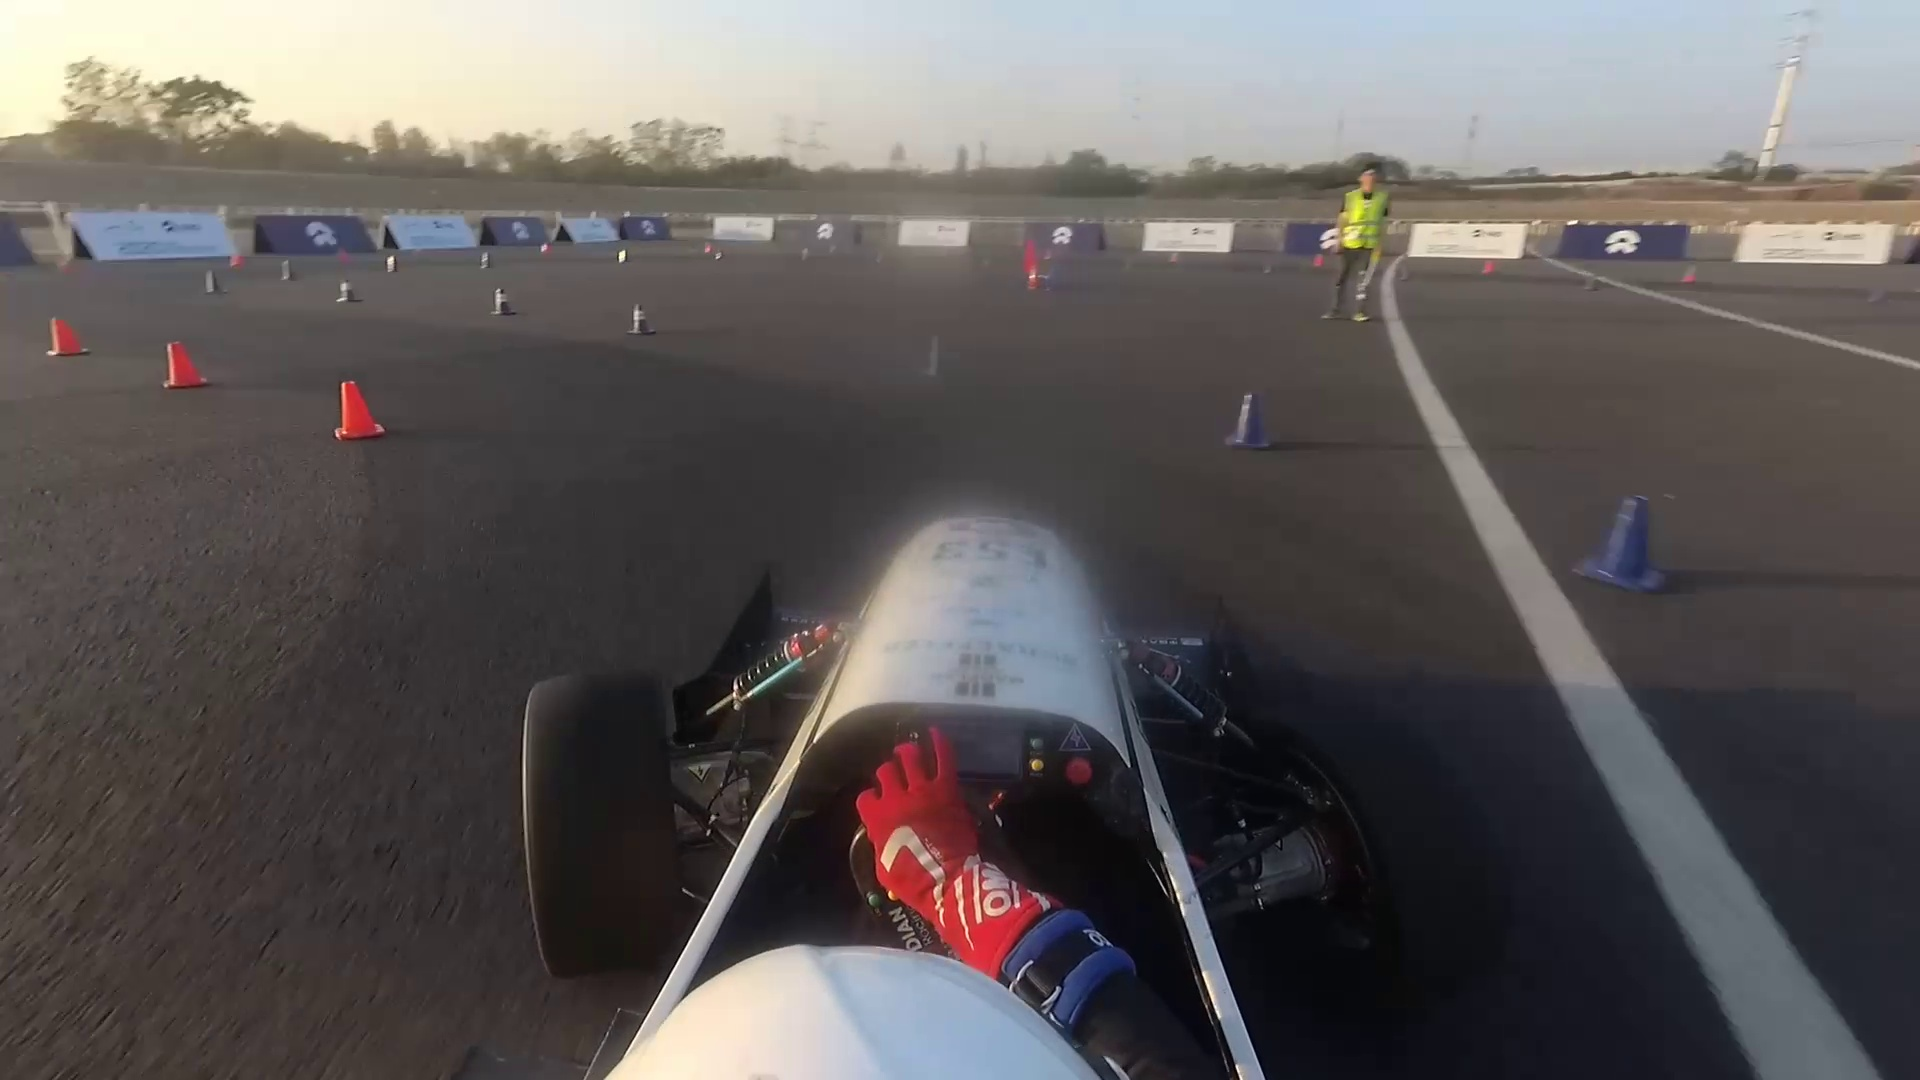blue_cone: (1557, 468, 1700, 618), (1230, 386, 1279, 463), (909, 330, 953, 389), (626, 302, 666, 340), (330, 270, 364, 313), (200, 261, 225, 306), (487, 285, 517, 314), (277, 260, 293, 282), (477, 252, 492, 272), (384, 256, 400, 272), (616, 248, 630, 262)
red_cone: (316, 372, 394, 446), (146, 334, 208, 393), (47, 297, 88, 365), (1027, 262, 1040, 291)
